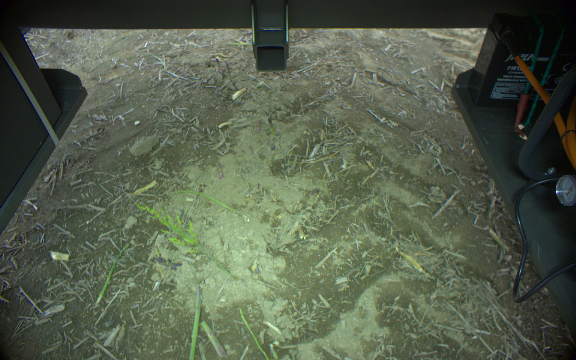aspa: (170, 188, 245, 220), (94, 242, 131, 305), (237, 307, 268, 360), (185, 284, 201, 360), (199, 319, 228, 358), (268, 342, 278, 360)
